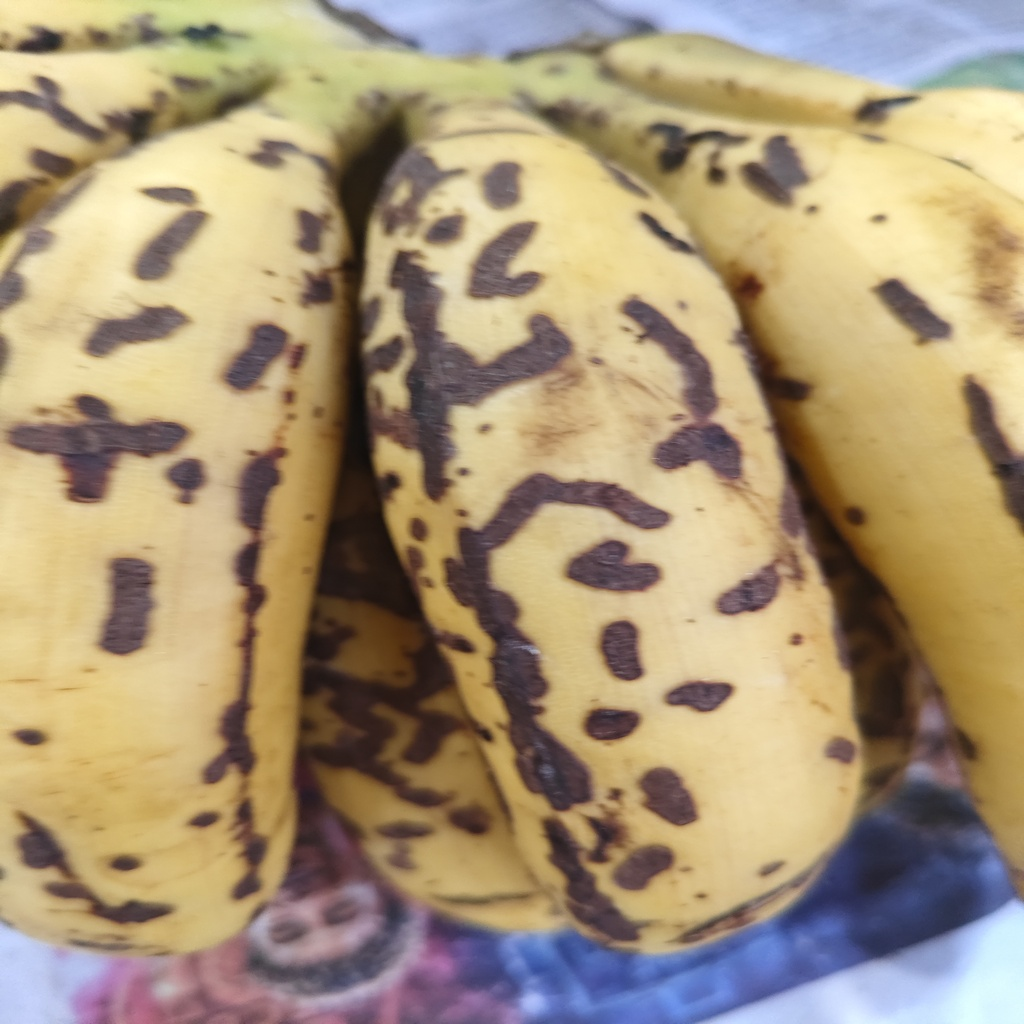unhealthy: (361, 130, 860, 953), (1, 138, 357, 961)
